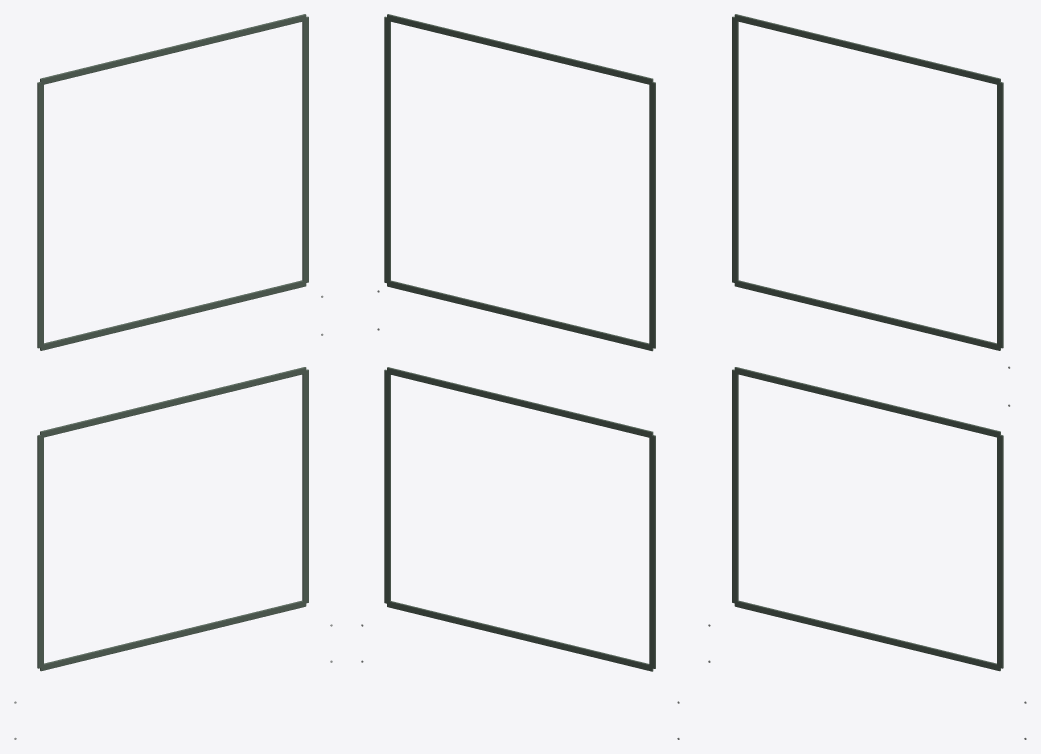
The model's file is door_optional_detail_overlay.glb.
The picture shows the model from 3 angles, left to right: view 1: azimuth 30°, elevation 25°; view 2: azimuth 150°, elevation 25°; view 3: azimuth 330°, elevation 25°; orthographic projection.
Parts seen in each view (by area): view 1: R101_panel_edge.003, R101_panel_edge.007, R101_panel_edge.002, R101_panel_edge.006, R101_panel_edge.004, R101_panel_edge.005, R101_panel_edge, R101_panel_edge.001; view 2: R101_panel_edge.003, R101_panel_edge.007, R101_panel_edge.006, R101_panel_edge.002, R101_panel_edge.004, R101_panel_edge.005, R101_panel_edge, R101_panel_edge.001; view 3: R101_panel_edge.003, R101_panel_edge.007, R101_panel_edge.002, R101_panel_edge.006, R101_panel_edge.005, R101_panel_edge.004, R101_panel_edge, R101_panel_edge.001.
Boxes of the visible parts, box(x1,y1,x2,y2) form: R101_panel_edge.003: box(40, 367, 306, 437); R101_panel_edge.007: box(40, 14, 306, 84); R101_panel_edge.002: box(40, 600, 306, 671); R101_panel_edge.006: box(40, 280, 306, 350); R101_panel_edge.004: box(37, 82, 43, 348); R101_panel_edge.005: box(302, 16, 308, 283); R101_panel_edge: box(37, 435, 43, 668); R101_panel_edge.001: box(302, 369, 308, 603); R101_panel_edge.003: box(387, 367, 653, 437); R101_panel_edge.007: box(387, 14, 653, 84); R101_panel_edge.006: box(387, 280, 653, 351); R101_panel_edge.002: box(387, 601, 653, 671); R101_panel_edge.004: box(649, 82, 655, 348); R101_panel_edge.005: box(384, 16, 390, 283); R101_panel_edge: box(649, 435, 655, 668); R101_panel_edge.001: box(384, 369, 390, 603); R101_panel_edge.003: box(734, 367, 1000, 437); R101_panel_edge.007: box(734, 14, 1000, 84); R101_panel_edge.002: box(734, 600, 1000, 671); R101_panel_edge.006: box(734, 280, 1000, 350); R101_panel_edge.005: box(997, 82, 1003, 348); R101_panel_edge.004: box(732, 16, 738, 283); R101_panel_edge: box(732, 369, 738, 603); R101_panel_edge.001: box(997, 435, 1003, 668).
Bounding box in the file's own units: 0.92 × 1.81 × 0.0222.
2 materials, 1 textured.
